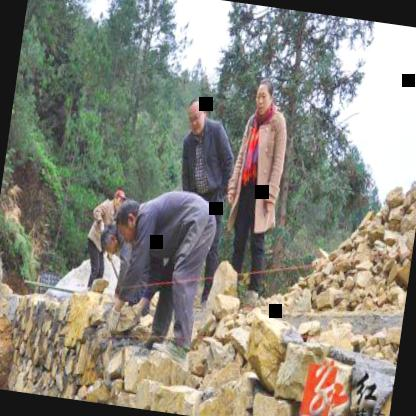head: (182, 90, 210, 139), (113, 198, 144, 241), (250, 74, 278, 119), (96, 226, 121, 256)
